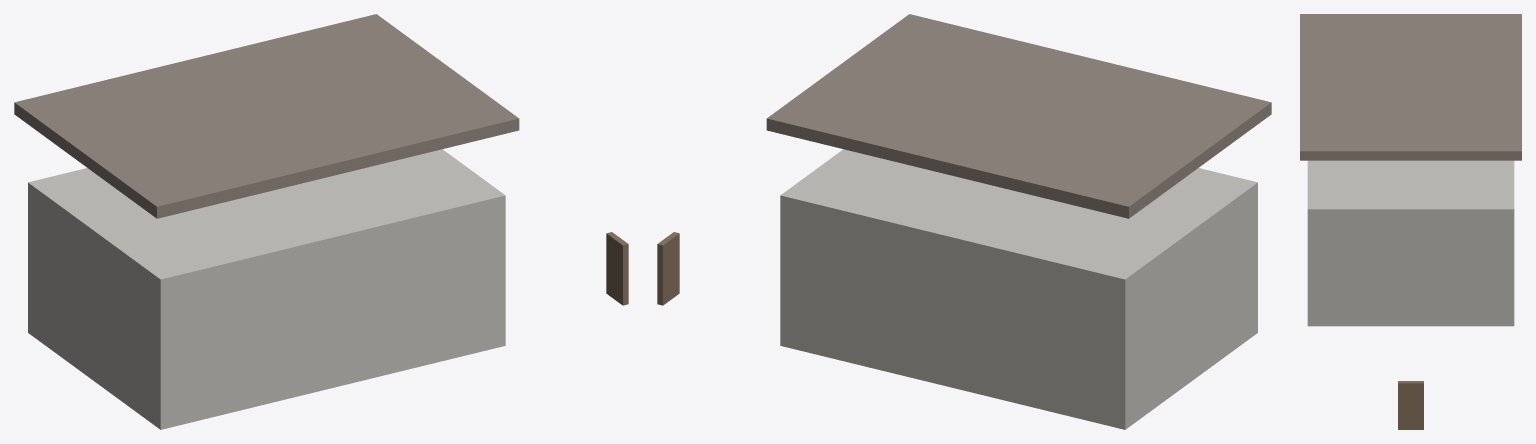
The model's file is building_warehouse.glb.
3 renders of one model, left to right at view 1: azimuth 30°, elevation 25°; view 2: azimuth 150°, elevation 25°; view 3: azimuth 270°, elevation 25°, orthographic. The views are drawn at different scales.
Visible parts, largest first — view 1: building_warehouse; view 2: building_warehouse; view 3: building_warehouse.
Part boxes in pixels (x1,y1,x2,y2): building_warehouse: [14, 14, 628, 429]; building_warehouse: [657, 14, 1271, 429]; building_warehouse: [1300, 14, 1521, 429].
Bounding box in the file's own units: 9.3 × 4.55 × 4.3.
